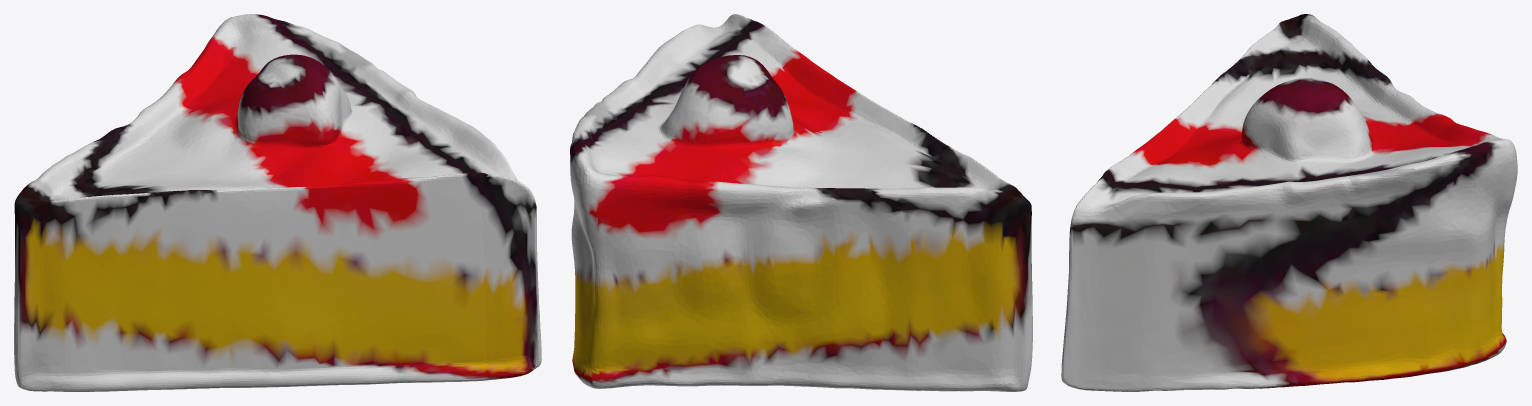
File: cake.glb
3 renders of one model, left to right at view 1: azimuth 30°, elevation 25°; view 2: azimuth 150°, elevation 25°; view 3: azimuth 270°, elevation 25°, orthographic. The views are drawn at different scales.
Parts seen in each view (by area): view 1: geometry_0; view 2: geometry_0; view 3: geometry_0.
Boxes of the visible parts, bbox=[...] form: geometry_0: bbox=[14, 14, 541, 391]; geometry_0: bbox=[570, 14, 1032, 391]; geometry_0: bbox=[1061, 14, 1517, 391].
Size of the model in its own units: 0.5625 by 0.3387 by 0.5475.
